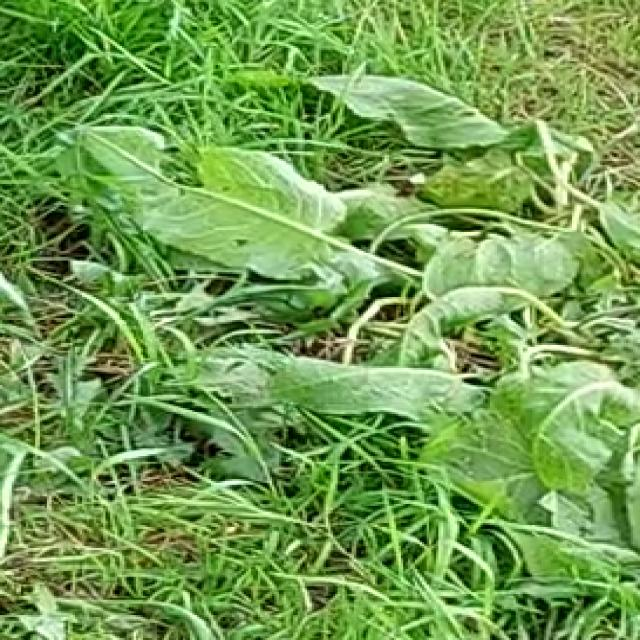organic waste: (77, 42, 640, 565)
